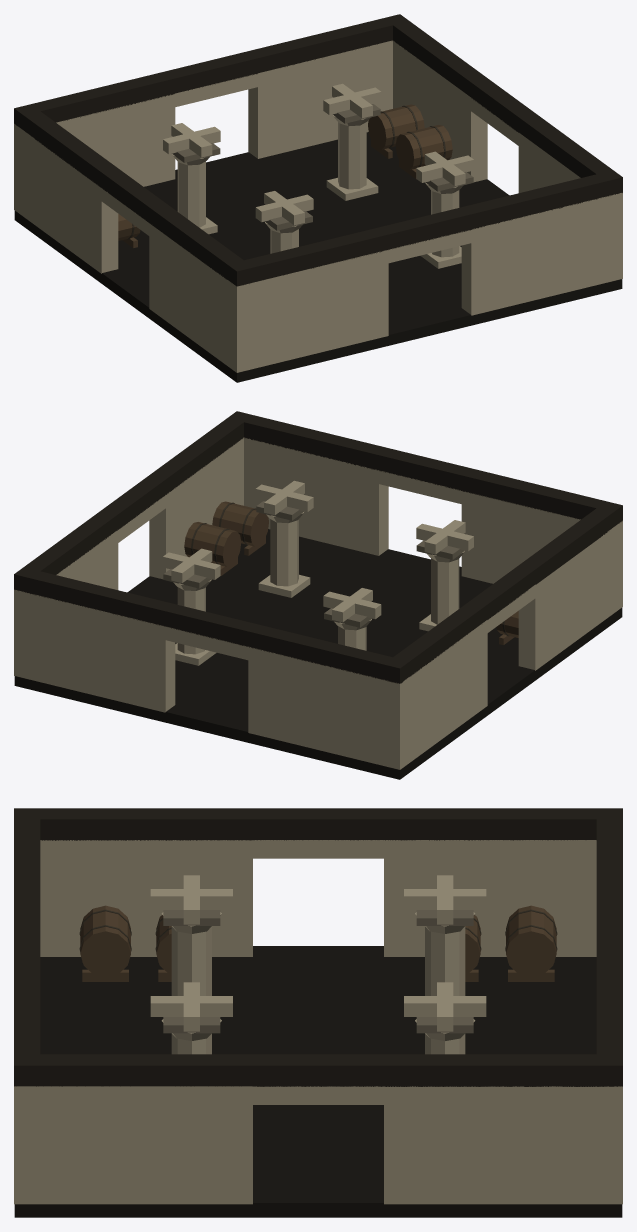
File: LateUndercroft.fbx
3 renders of one model, top to bottom at view 1: azimuth 30°, elevation 25°; view 2: azimuth 150°, elevation 25°; view 3: azimuth 270°, elevation 25°, orthographic. The views are drawn at different scales.
Parts seen in each view (by area): view 1: LateUndercroft; view 2: LateUndercroft; view 3: LateUndercroft.
Boxes of the visible parts, x1,y1,x2,y2 form: LateUndercroft: (14, 14, 622, 382); LateUndercroft: (14, 411, 622, 779); LateUndercroft: (14, 808, 622, 1217).
Size of the model in its own units: 1202 by 332 by 1202.
Materials: 6 (6 with a texture image).
